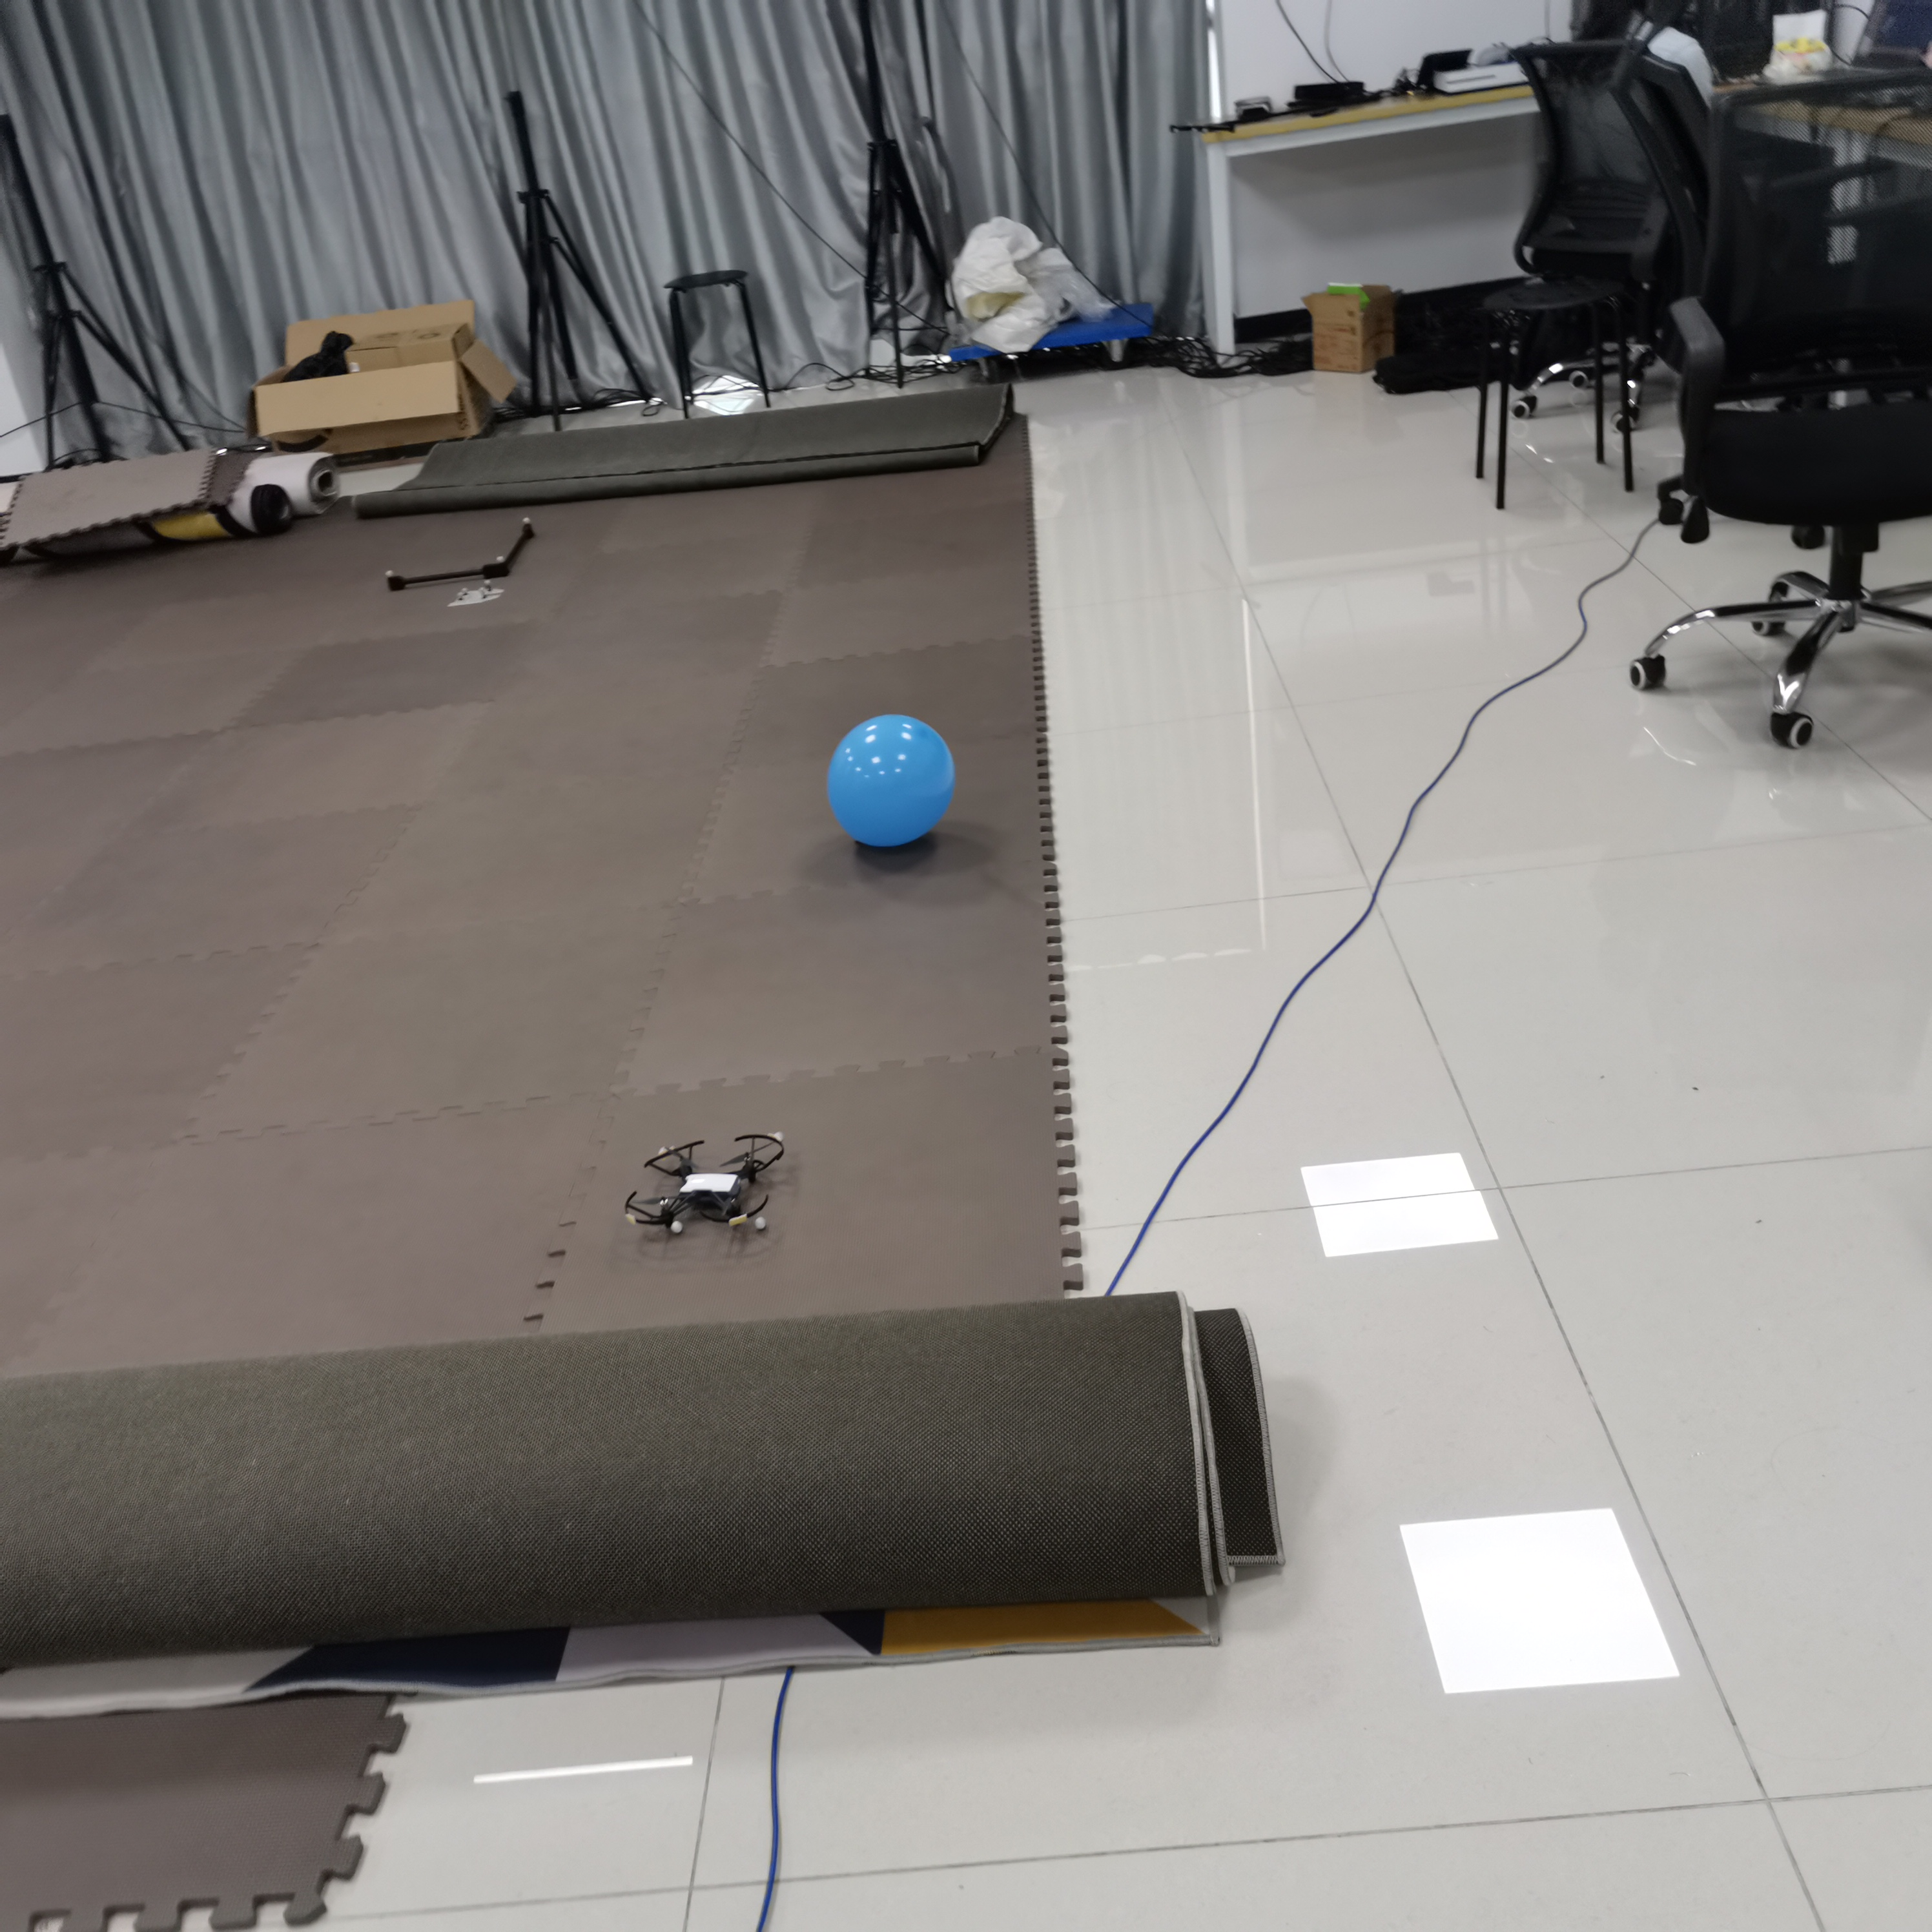balloon: (824, 715, 955, 849)
